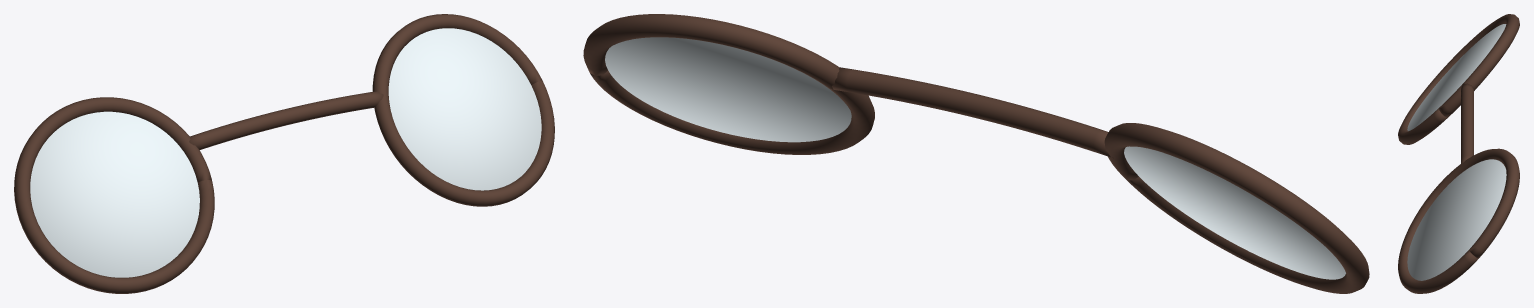
File: glasses.glb
The picture shows the model from 3 angles, left to right: view 1: azimuth 30°, elevation 25°; view 2: azimuth 150°, elevation 25°; view 3: azimuth 270°, elevation 25°; orthographic projection. The views are drawn at different scales.
Parts seen in each view (by area): view 1: glasses; view 2: glasses; view 3: glasses.
Boxes of the visible parts, x1,y1,x2,y2 form: glasses: (14, 14, 554, 293); glasses: (583, 14, 1369, 293); glasses: (1398, 14, 1519, 293).
Bounding box in the file's own units: 1.37 × 0.3526 × 0.3296.
